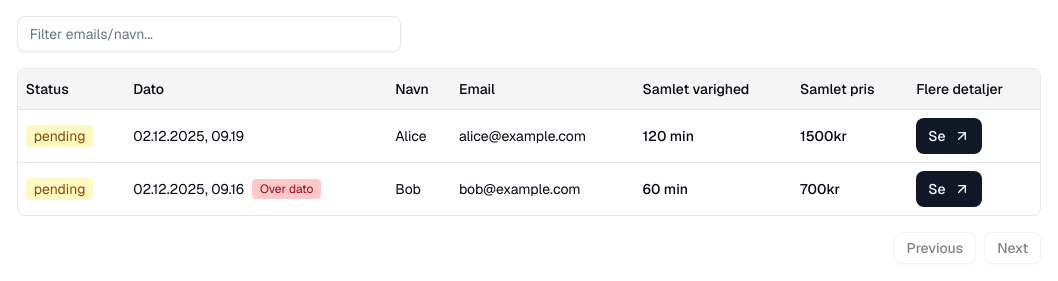
Test case: BookingTable › filters rows by global filter
The image size is (1058, 281).
Note: Search for "Alice"
In the field with placeholder "Filter emails/navn...": coordinates (209, 34) [17,16,401,52], type "Alice"
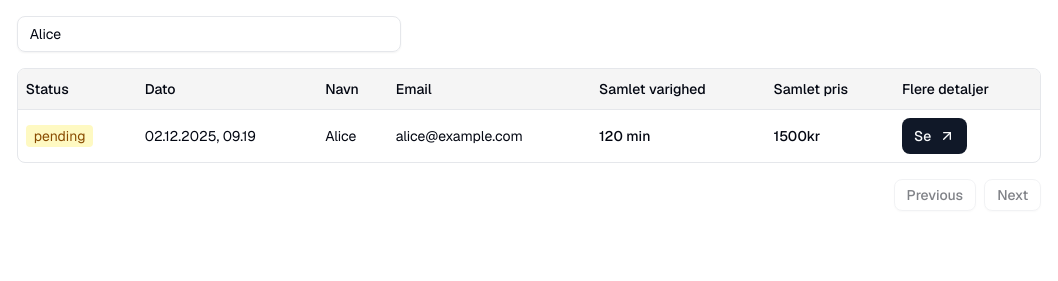
Expected: the text "Alice" is shown, [325,126,356,144]
Result: the text "Bob" is gone
